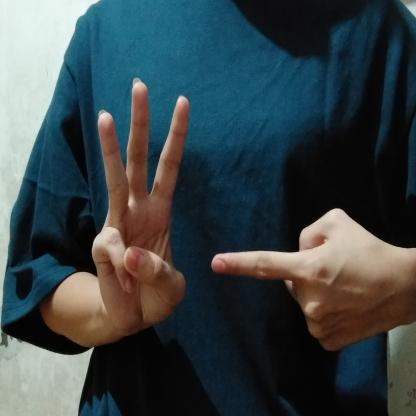why: (89, 73, 416, 362)
